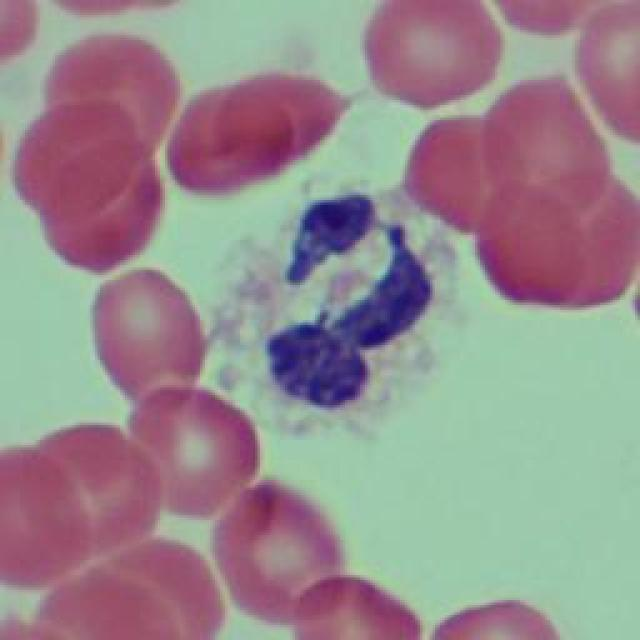RBC: (485, 74, 613, 226), (214, 480, 341, 625), (46, 32, 184, 160), (128, 385, 260, 517), (40, 139, 165, 276), (27, 425, 162, 550), (361, 0, 504, 115), (91, 268, 201, 414), (11, 97, 141, 215), (536, 165, 639, 307), (406, 118, 526, 232), (168, 84, 292, 194), (478, 188, 588, 310), (0, 446, 95, 586), (90, 540, 222, 640), (221, 74, 354, 164), (36, 565, 184, 640), (576, 2, 639, 146), (292, 575, 420, 640), (436, 597, 556, 640), (496, 0, 586, 40), (49, 0, 171, 20), (0, 0, 38, 60)
WBC: (200, 175, 468, 445)
